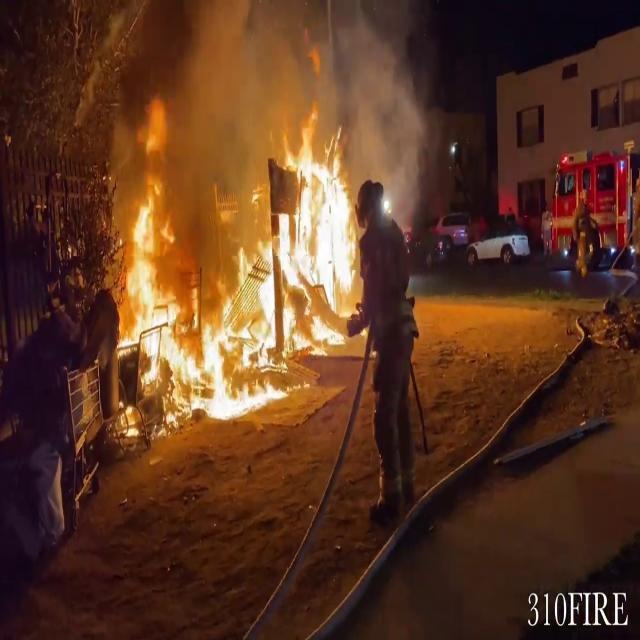Fire: (100, 111, 374, 421)
Smoke: (334, 3, 441, 208)
